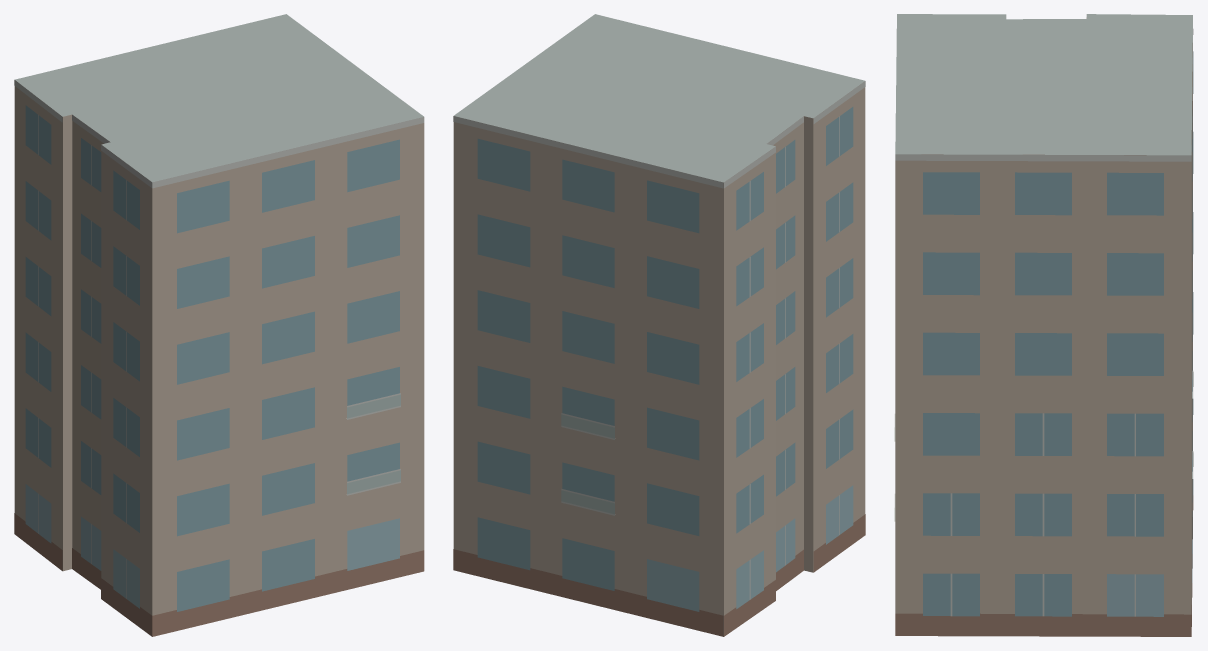
Rendered from survey-upis-32520236.glb.
3 views of the same model, side by side, from view 1: azimuth 30°, elevation 25°; view 2: azimuth 150°, elevation 25°; view 3: azimuth 270°, elevation 25° (orthographic). The views are drawn at different scales.
Visible parts, largest first — view 1: survey-upis-32520236.tmp; view 2: survey-upis-32520236.tmp; view 3: survey-upis-32520236.tmp.
Part boxes in pixels (<box>): survey-upis-32520236.tmp: <box>14,14,424,636</box>; survey-upis-32520236.tmp: <box>453,14,865,636</box>; survey-upis-32520236.tmp: <box>894,14,1193,636</box>.
Bounding box in the file's own units: 11.52 × 18.3 × 10.31.
